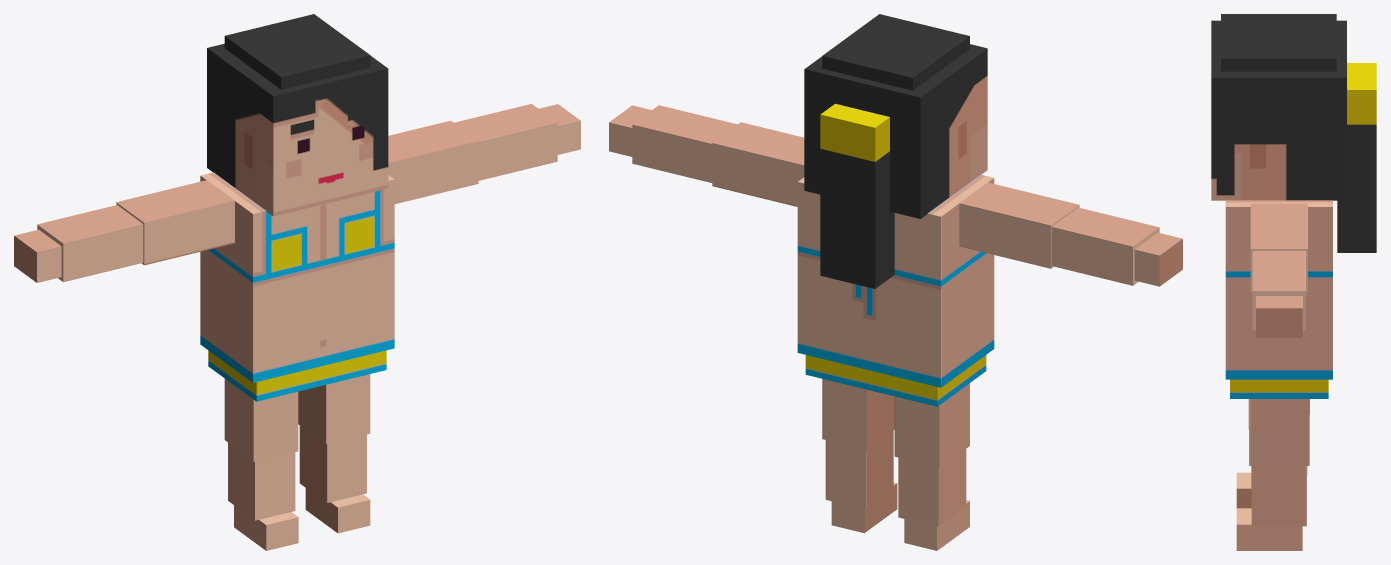
3 views of the same model, side by side, from view 1: azimuth 30°, elevation 25°; view 2: azimuth 150°, elevation 25°; view 3: azimuth 270°, elevation 25° (orthographic). The views are drawn at different scales.
Visible parts, largest first — view 1: CH_BeachBabe; view 2: CH_BeachBabe; view 3: CH_BeachBabe.
Boxes of the visible parts, x1,y1,x2,y2 form: CH_BeachBabe: [14, 14, 580, 550]; CH_BeachBabe: [609, 14, 1182, 550]; CH_BeachBabe: [1211, 14, 1376, 550].
Size of the model in its own units: 337 by 283 by 86.8.
Materials: 1 (1 with a texture image).
